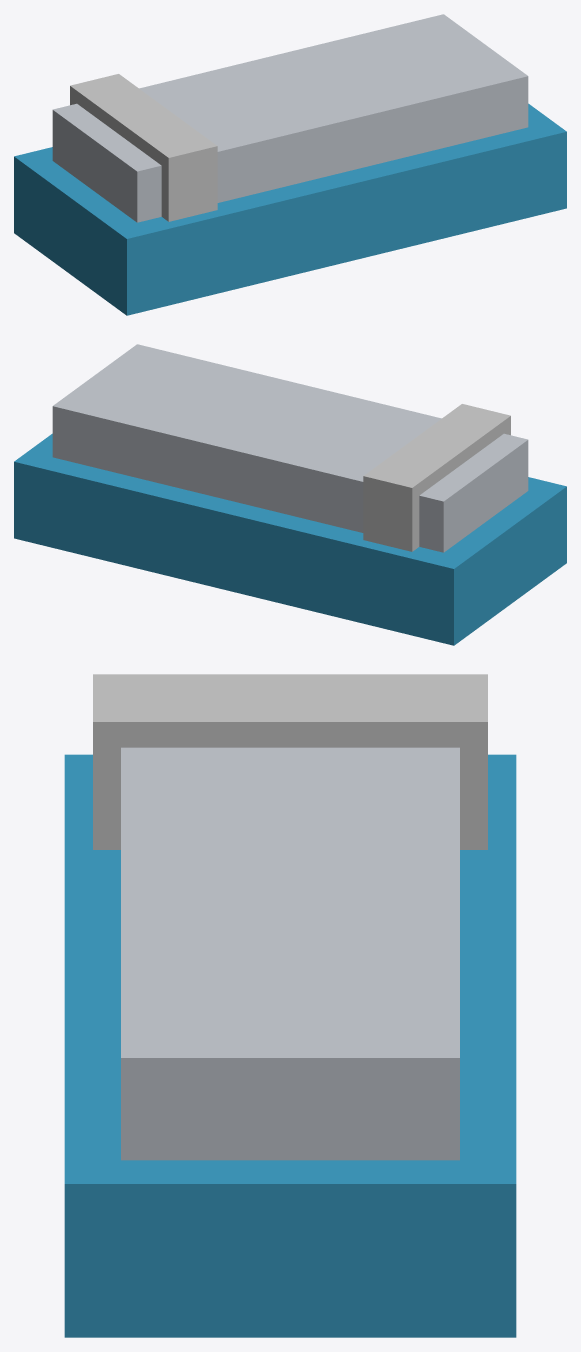
File: apex_alloy.obj
3 renders of one model, top to bottom at view 1: azimuth 30°, elevation 25°; view 2: azimuth 150°, elevation 25°; view 3: azimuth 270°, elevation 25°, orthographic. The views are drawn at different scales.
Parts seen in each view (by area): view 1: apex_alloy; view 2: apex_alloy; view 3: apex_alloy.
Boxes of the visible parts, bbox=[...] form: apex_alloy: bbox=[14, 14, 566, 315]; apex_alloy: bbox=[14, 344, 566, 645]; apex_alloy: bbox=[64, 674, 516, 1337].
Bounding box in the file's own units: 0.36 × 0.11 × 0.16.
